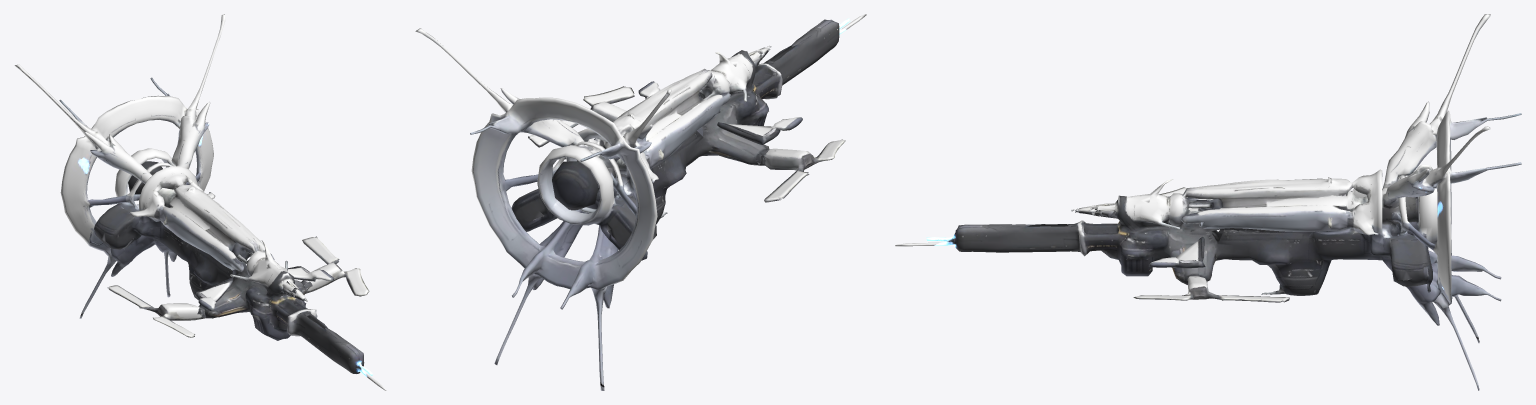
Rendered from hss.glb.
3 views of the same model, side by side, from view 1: azimuth 30°, elevation 25°; view 2: azimuth 150°, elevation 25°; view 3: azimuth 270°, elevation 25° (orthographic). The views are drawn at different scales.
Parts seen in each view (by area): view 1: HSS_Station; view 2: HSS_Station; view 3: HSS_Station.
Boxes of the visible parts, x1,y1,x2,y2 form: HSS_Station: (14,14,386,390); HSS_Station: (415,14,866,390); HSS_Station: (895,14,1521,390).
Bounding box in the file's own units: 33.35 × 40.23 × 77.
Materials: 1 (1 with a texture image).
